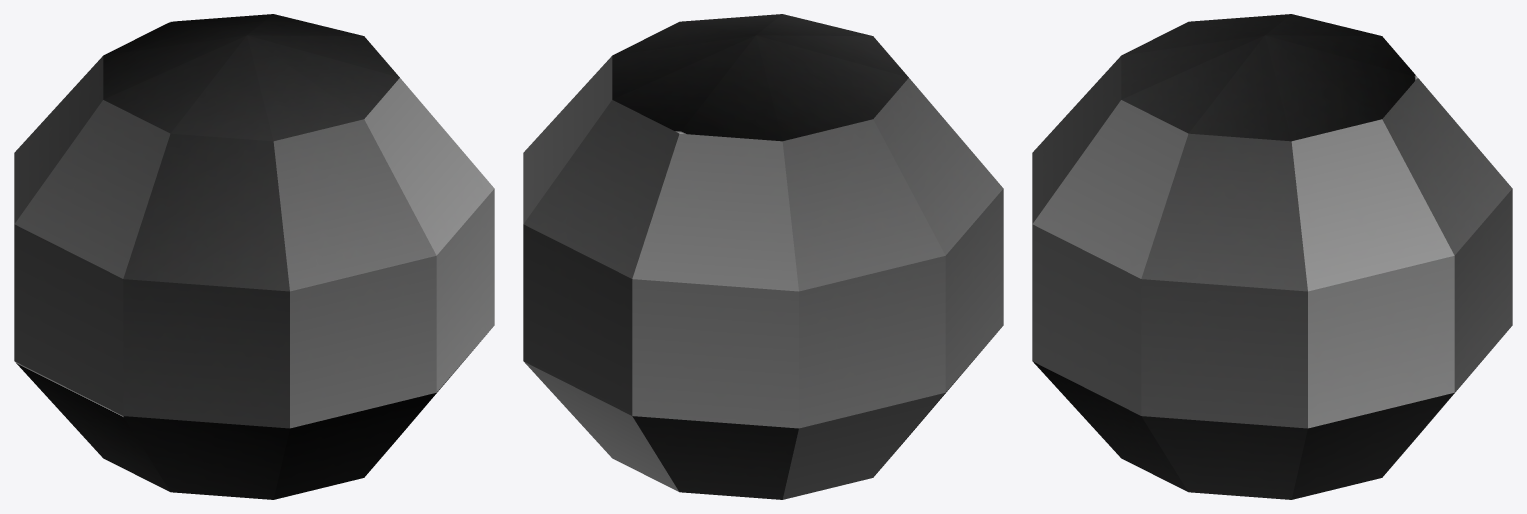
File: Planet.obj
3 renders of one model, left to right at view 1: azimuth 30°, elevation 25°; view 2: azimuth 150°, elevation 25°; view 3: azimuth 270°, elevation 25°, orthographic.
Visible parts, largest first — view 1: sphere; view 2: sphere; view 3: sphere.
Part boxes in pixels (box(x1,y1,x2,y2)): sphere: box(14, 14, 494, 499); sphere: box(523, 14, 1003, 499); sphere: box(1032, 14, 1512, 499).
Size of the model in its own units: 0.9967 by 1 by 0.9816.
